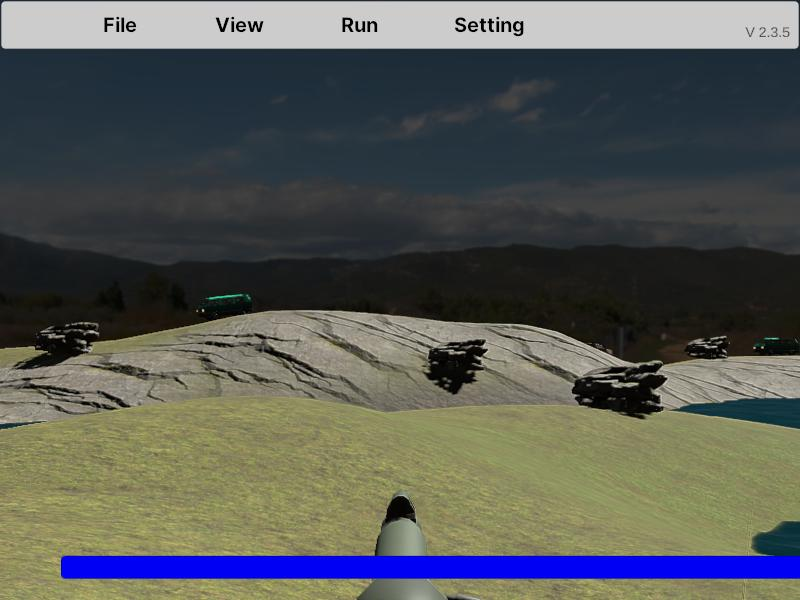car: (196, 293, 252, 320), (753, 337, 800, 357)
